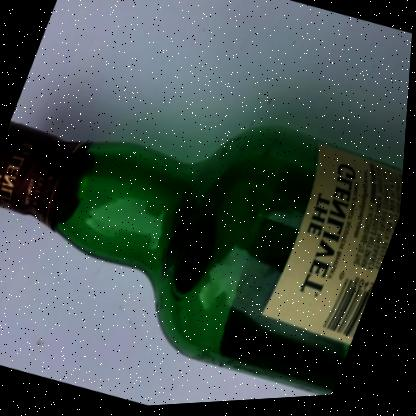Glass: (0, 121, 406, 399)
